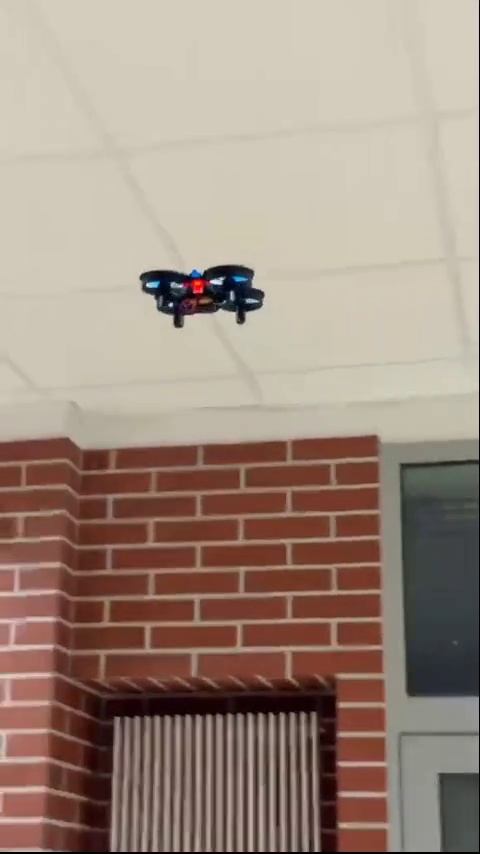drone: (138, 258, 266, 330)
